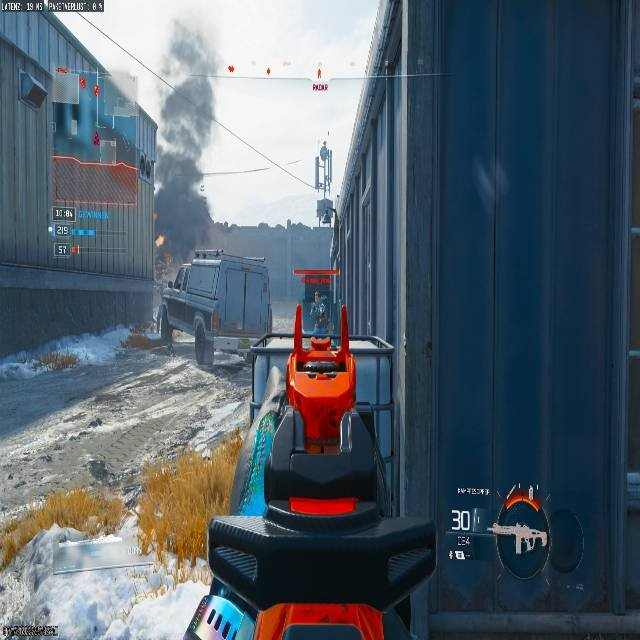player: (311, 289, 327, 327)
